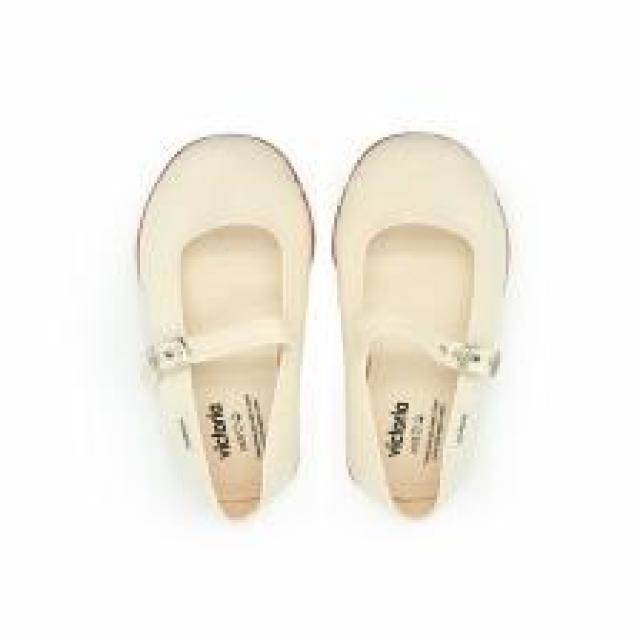shoe: (334, 133, 510, 522), (138, 134, 313, 523)
